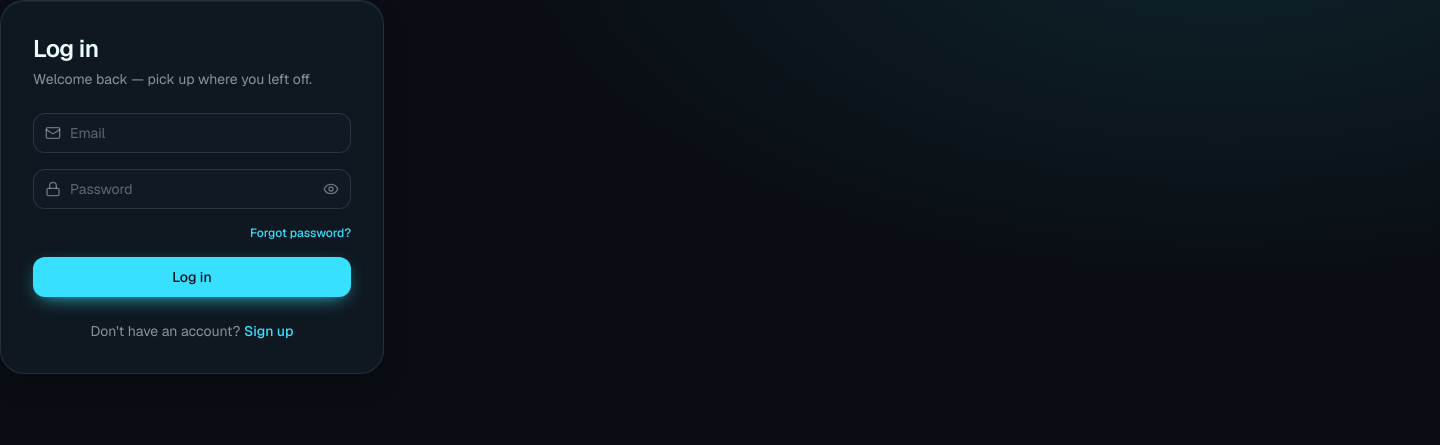
it: LoginPage › shows an error message and does not redirect when signIn fails
Type "a@example.com" into the field with placeholder "Email". click: (192, 133)
box: [33,113,351,153]
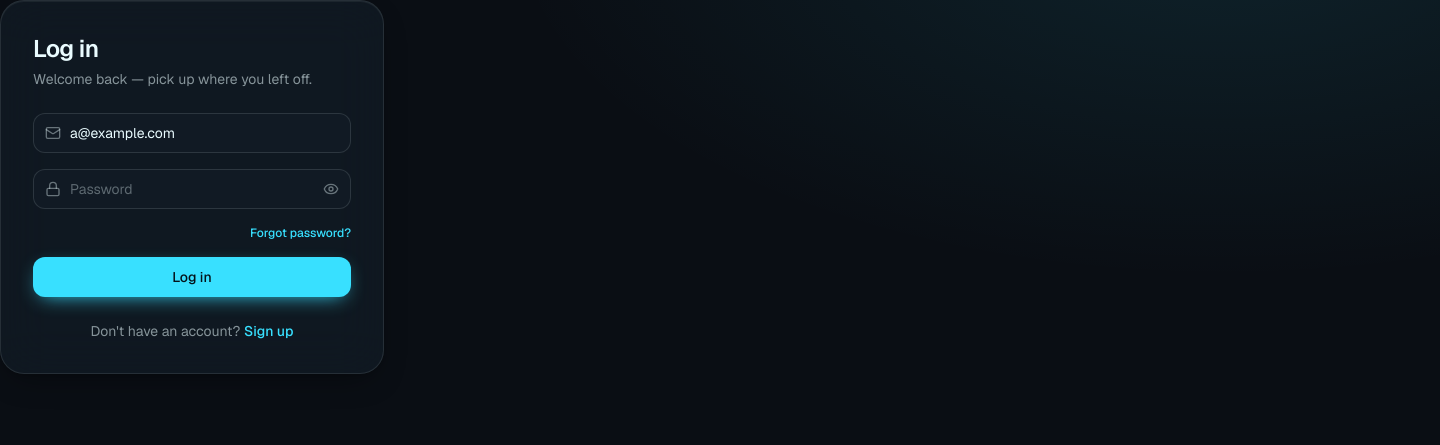
Type "wrong" into the password field with placeholder "Password". click: (192, 189)
box: [33,169,351,209]
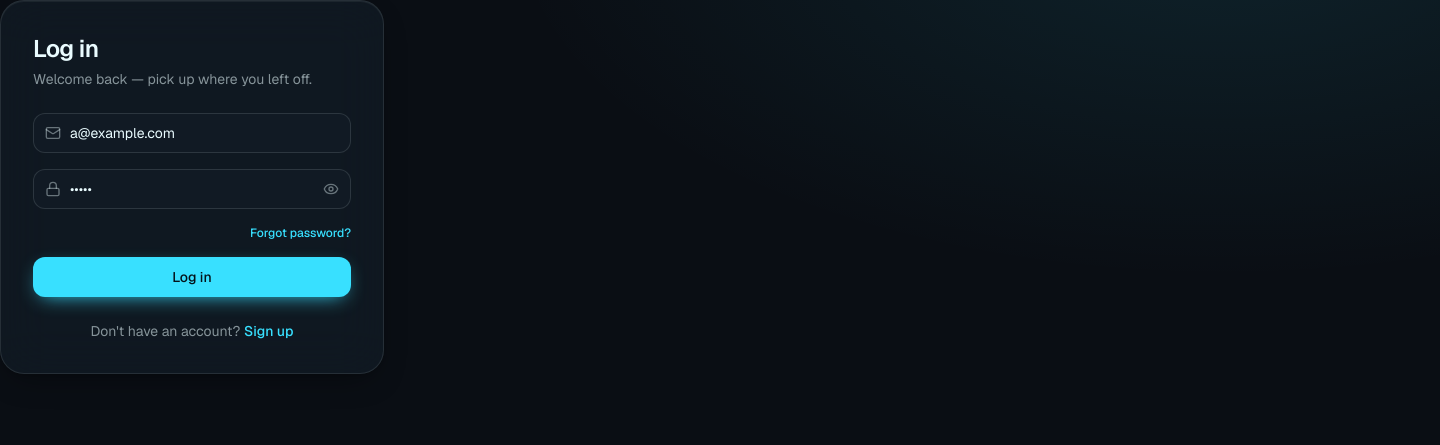
Click the button "Log in". click: (192, 277)
box: [33,257,351,297]
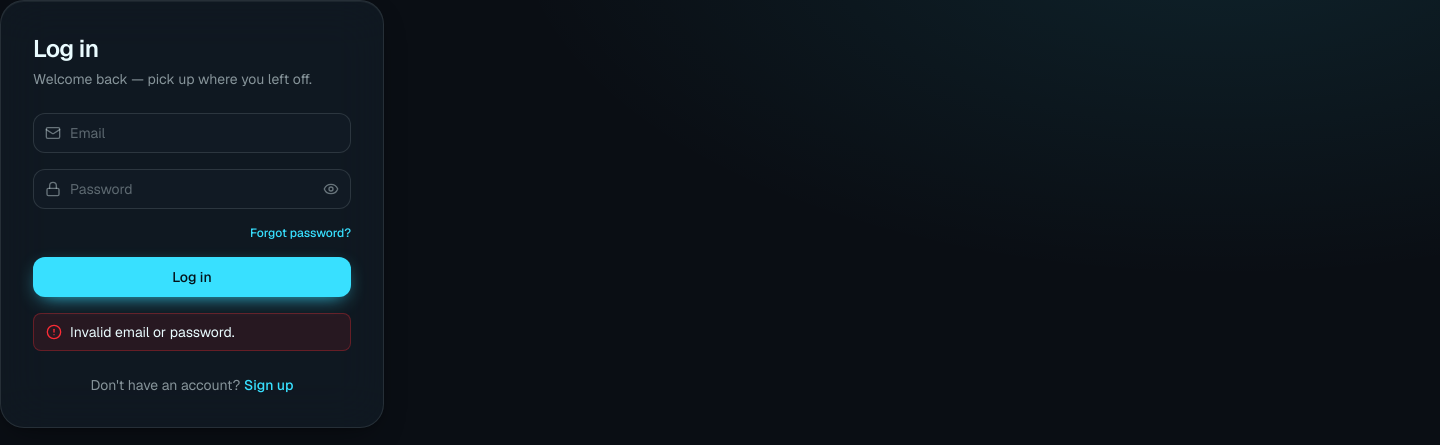
Expected: the message reads "Invalid email or password.", [70,323,235,341]
